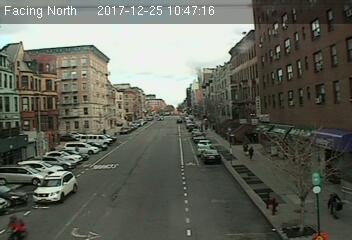bicycle: (5, 212, 29, 240)
car: (31, 169, 78, 202), (201, 148, 220, 163)
